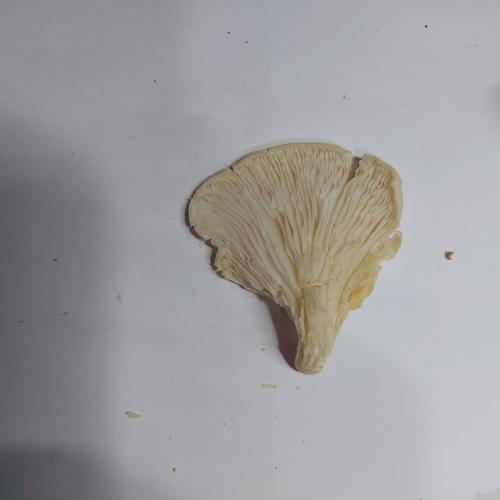Oyster Mushroom: (186, 140, 404, 375)
